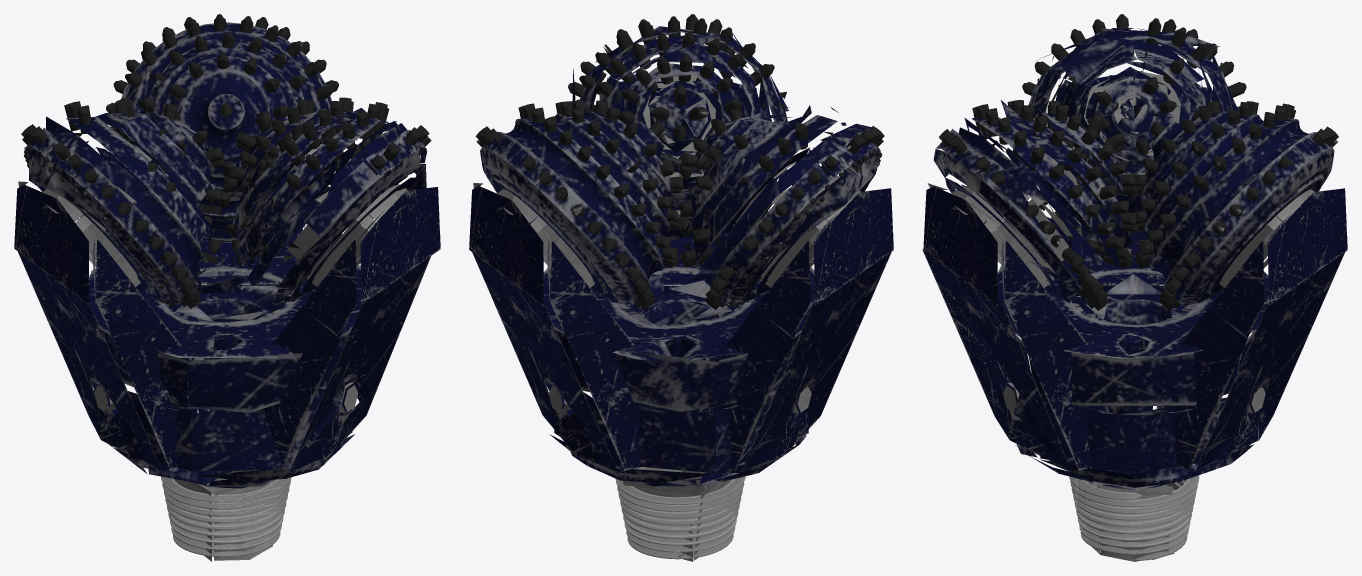
Rendered from bit.glb.
The picture shows the model from 3 angles, left to right: view 1: azimuth 30°, elevation 25°; view 2: azimuth 150°, elevation 25°; view 3: azimuth 270°, elevation 25°; orthographic projection.
Parts seen in each view (by area): view 1: HardRockBits; view 2: HardRockBits; view 3: HardRockBits.
Part boxes in pixels (left/top/right/bottom): HardRockBits: left=14, top=14, right=440, bottom=561; HardRockBits: left=469, top=14, right=893, bottom=561; HardRockBits: left=922, top=14, right=1347, bottom=561.
Bounding box in the file's own units: 0.1698 × 0.2221 × 0.1861.
Materials: 1 (1 with a texture image).
